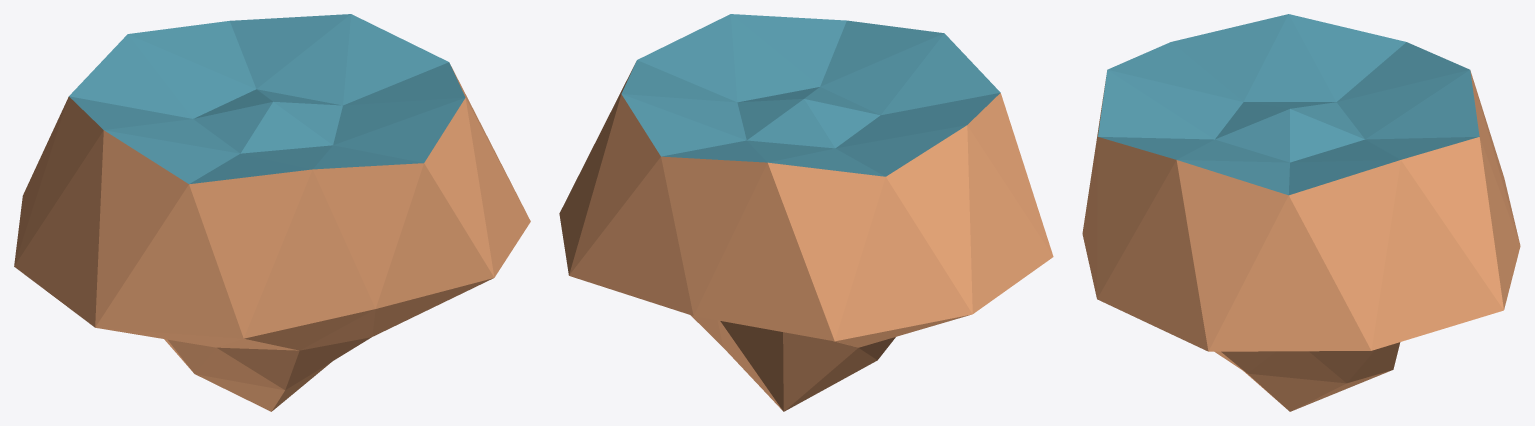
File: low_polw_marino (2).fbx
3 views of the same model, side by side, from view 1: azimuth 30°, elevation 25°; view 2: azimuth 150°, elevation 25°; view 3: azimuth 270°, elevation 25° (orthographic). The views are drawn at different scales.
Parts seen in each view (by area): view 1: Icosphere; view 2: Icosphere; view 3: Icosphere.
Boxes of the visible parts, x1,y1,x2,y2 form: Icosphere: [14, 14, 530, 411]; Icosphere: [559, 14, 1053, 411]; Icosphere: [1082, 14, 1520, 411].
Bounding box in the file's own units: 484 × 344 × 430.
